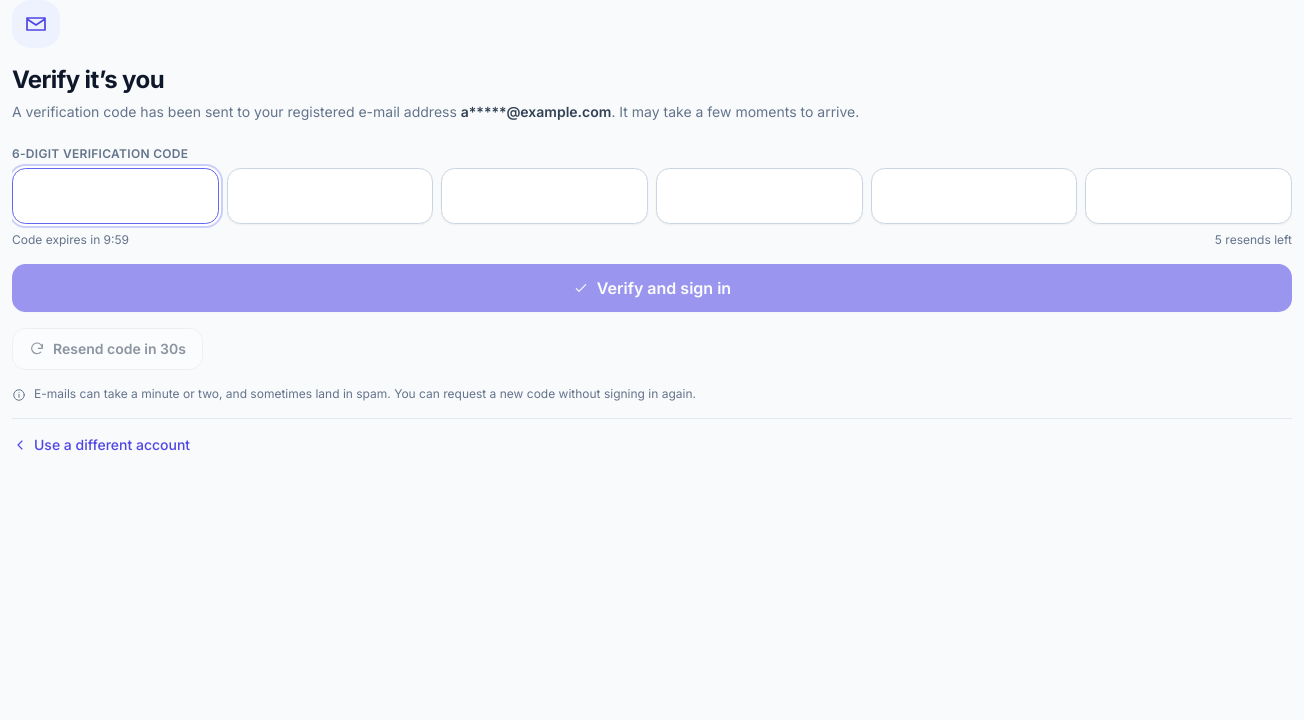
Test: LoginVerification › never claims the code was wrong when the connection fails
In the field named "Digit 1 of 6": coordinates (115, 196) [12,168,219,224], type "123456"
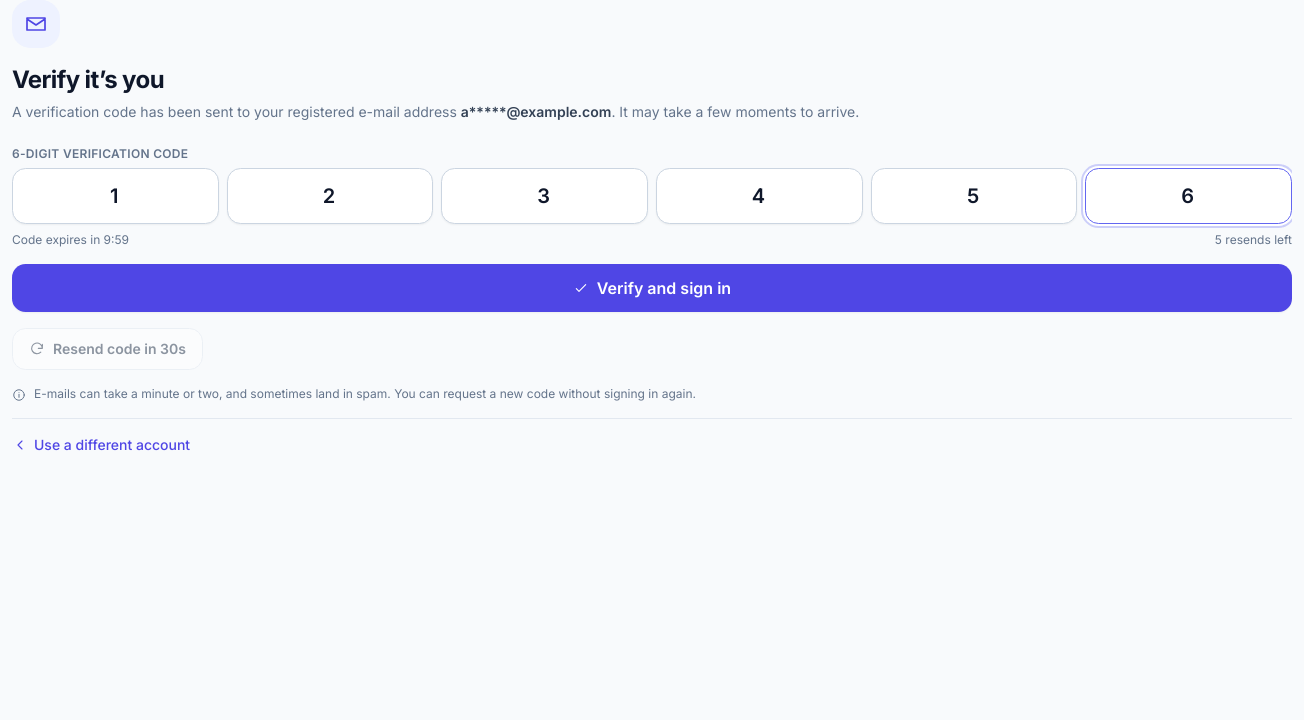
Click the button "Verify and sign in": coordinates (652, 288) [12,264,1292,312]
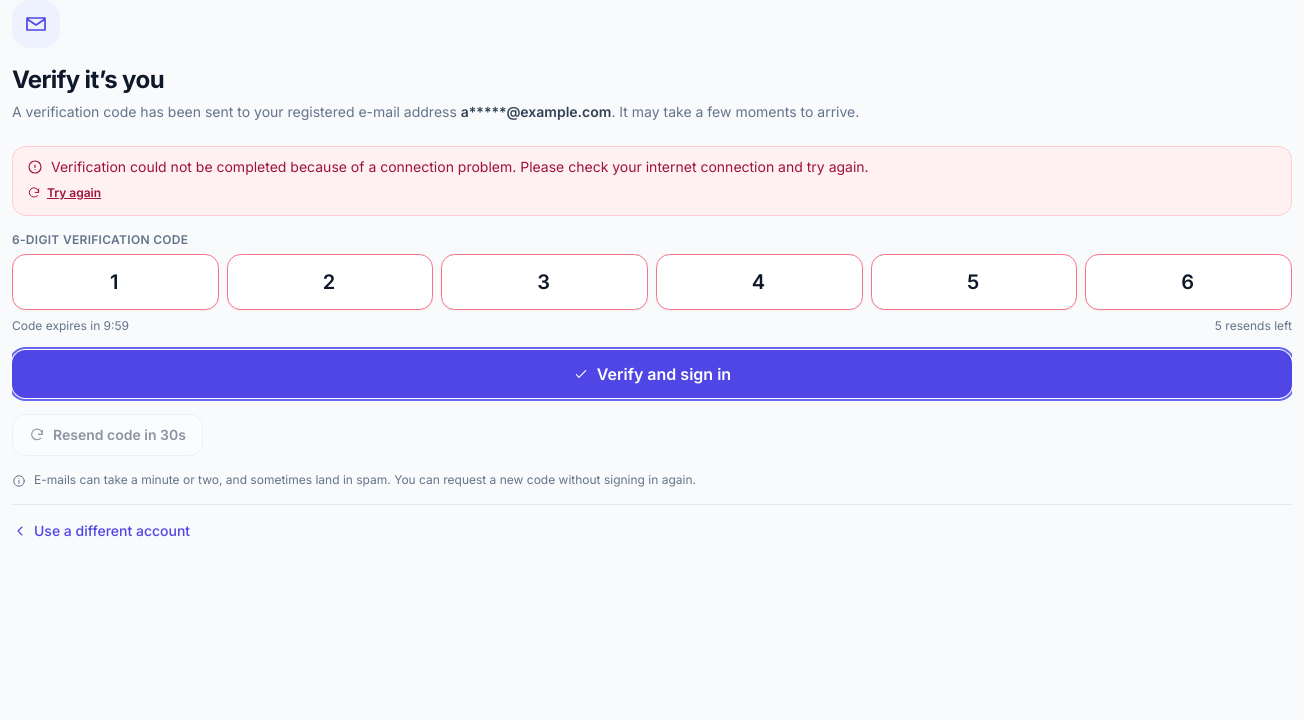
Expected: the text "connection problem" is shown, [51,158,869,175]
